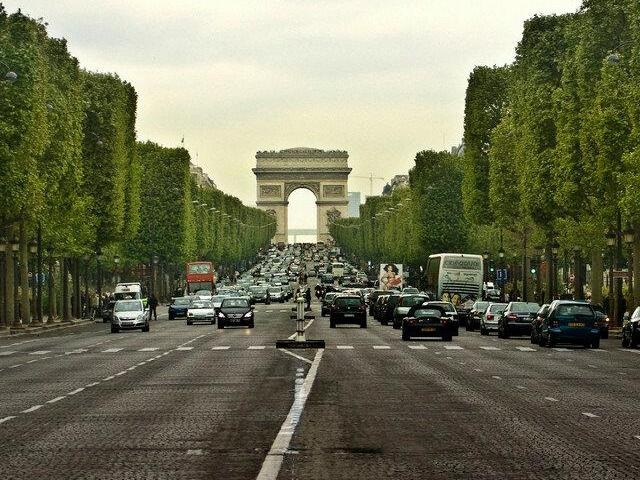bus: (424, 244, 489, 310), (185, 257, 221, 300)
